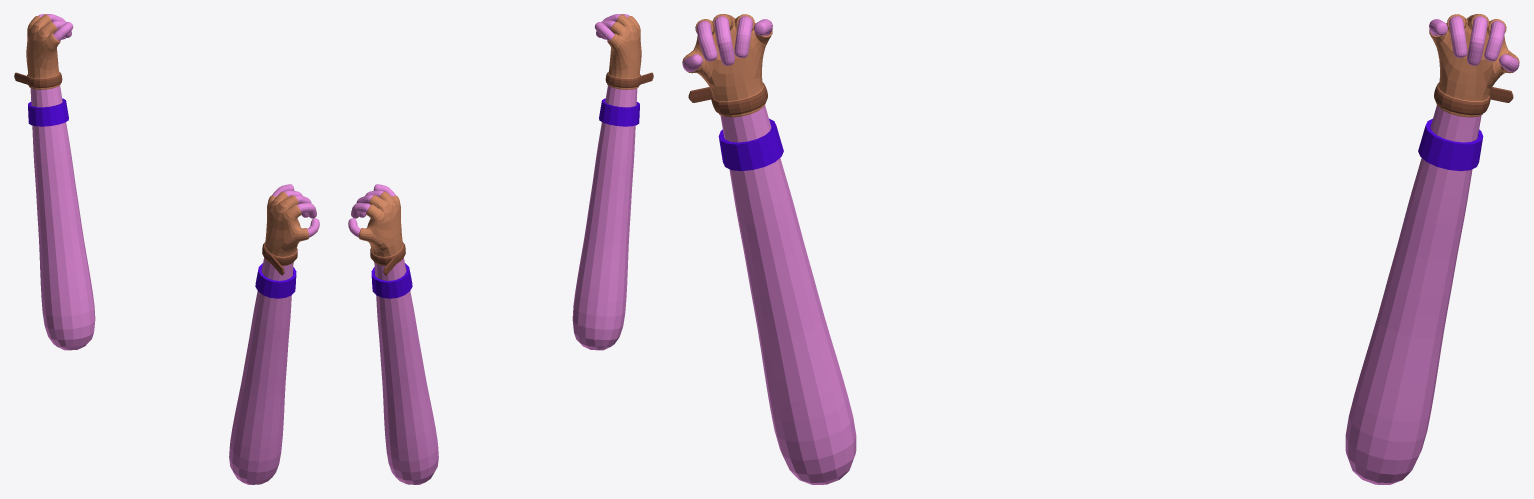
The model's file is Hands.fbx.
The picture shows the model from 3 angles, left to right: view 1: azimuth 30°, elevation 25°; view 2: azimuth 150°, elevation 25°; view 3: azimuth 270°, elevation 25°; orthographic projection. The views are drawn at different scales.
Parts seen in each view (by area): view 1: Hand_R, hand_L; view 2: hand_L, Hand_R; view 3: hand_L, Hand_R.
Boxes of the visible parts, bbox=[...] form: Hand_R: bbox=[14, 14, 95, 350]; hand_L: bbox=[229, 184, 319, 484]; hand_L: bbox=[572, 14, 653, 350]; Hand_R: bbox=[348, 184, 438, 484]; hand_L: bbox=[682, 14, 856, 484]; Hand_R: bbox=[1345, 14, 1519, 484].
Size of the model in its own units: 339 by 2014 by 3234.
